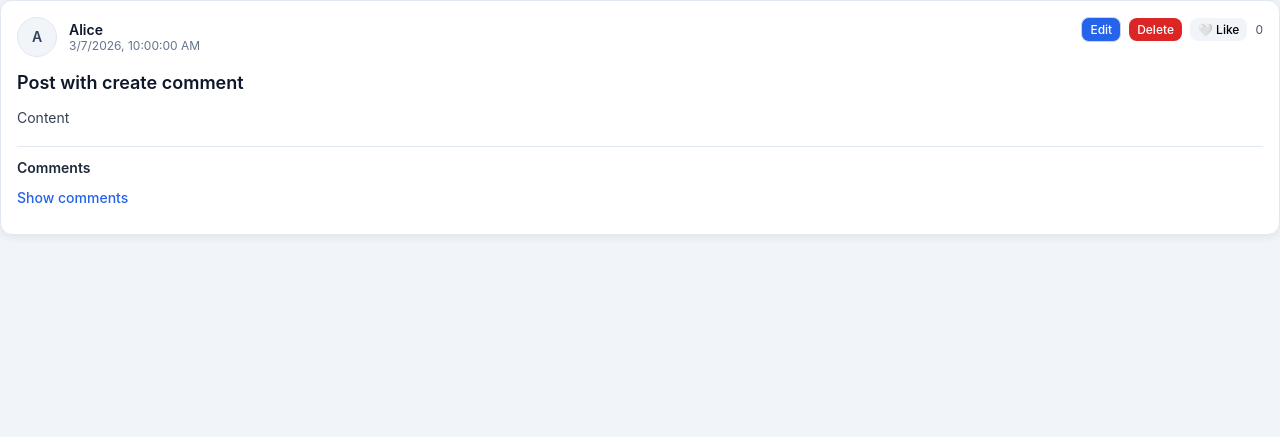
PostCard › Comments › creates a new comment and reloads comments list
Click the button with test id "comments-open-post-comments-2".
click(73, 197)  # box [17,188,128,206]
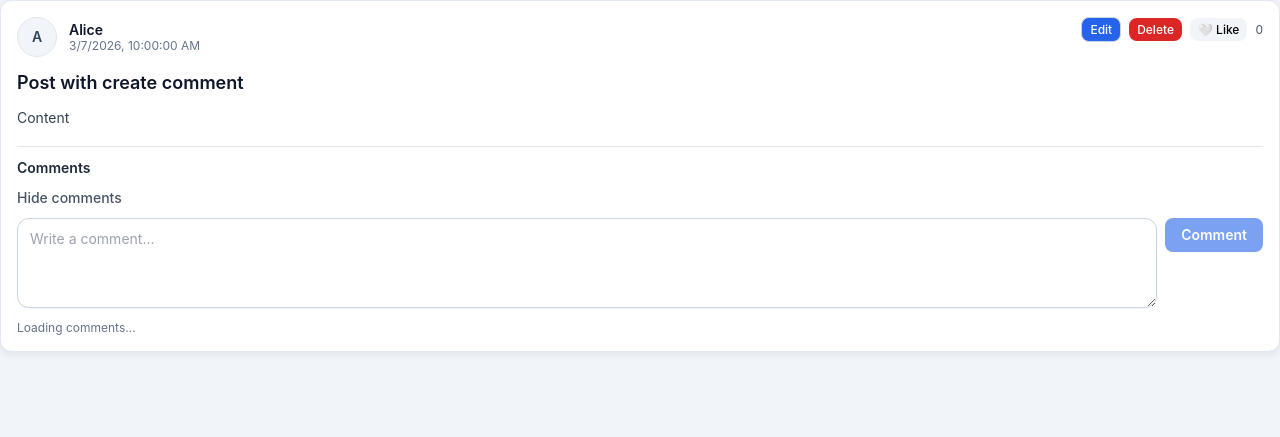
Type "My comment" into the text box with test id "comment-input-post-comments-2".
click(587, 263); type("My comment")  # box [17,218,1157,308]
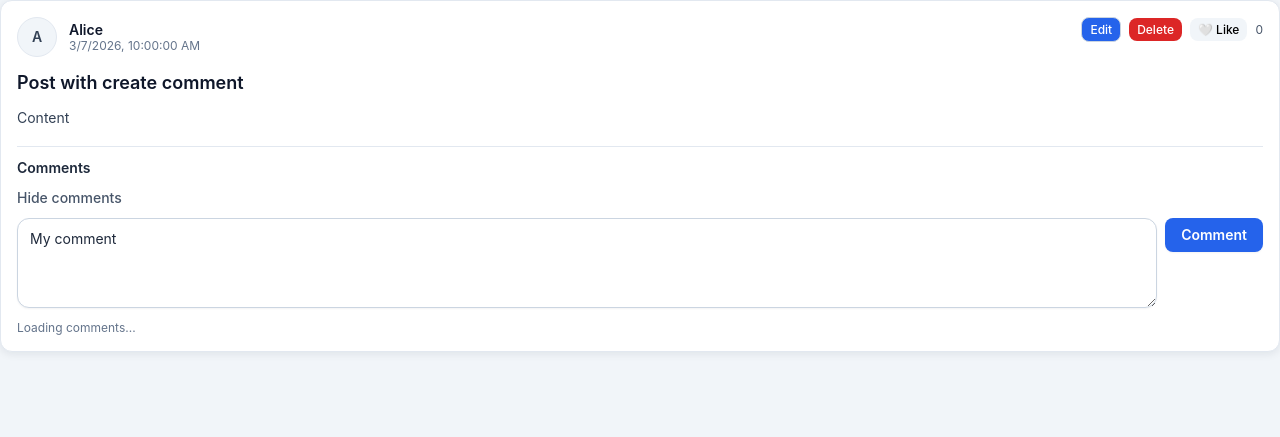
Click the button with test id "comment-submit-post-comments-2".
click(1214, 235)  # box [1165,218,1263,252]
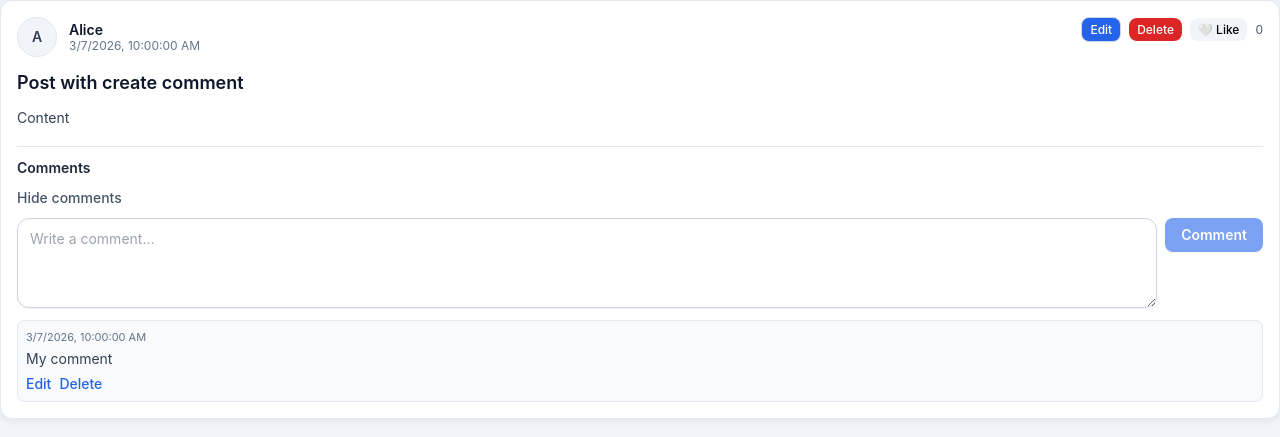
Result: the list with test id "comments-list-post-comments-2" shows "My comment" at [26,350,112,366]
